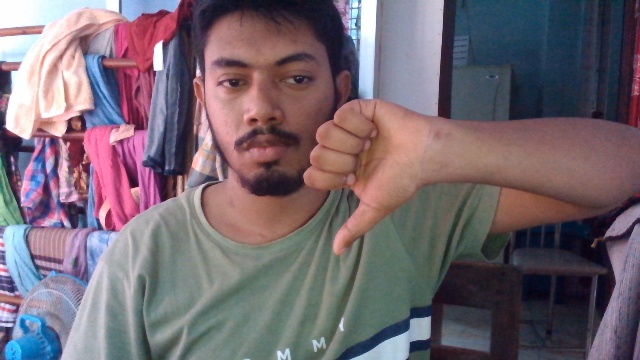no: (297, 77, 446, 260)
